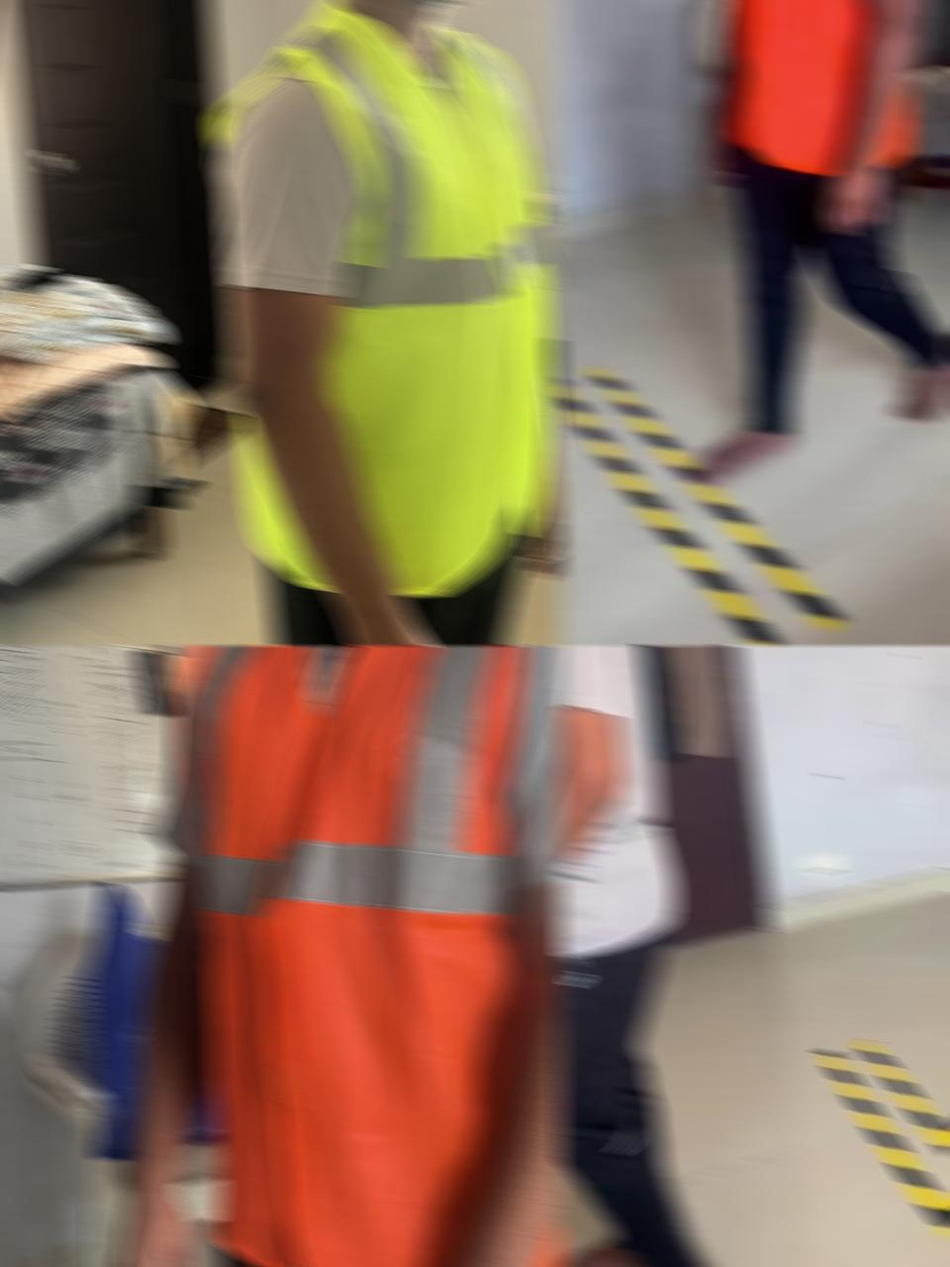BorderLine: (556, 362, 849, 646), (813, 1037, 950, 1267)
No_Vest: (556, 645, 679, 959)
Person: (112, 644, 564, 1267), (207, 0, 564, 645), (687, 0, 950, 481), (555, 644, 723, 1267)
Vest: (176, 644, 564, 1267), (207, 0, 553, 597), (722, 0, 931, 177)
